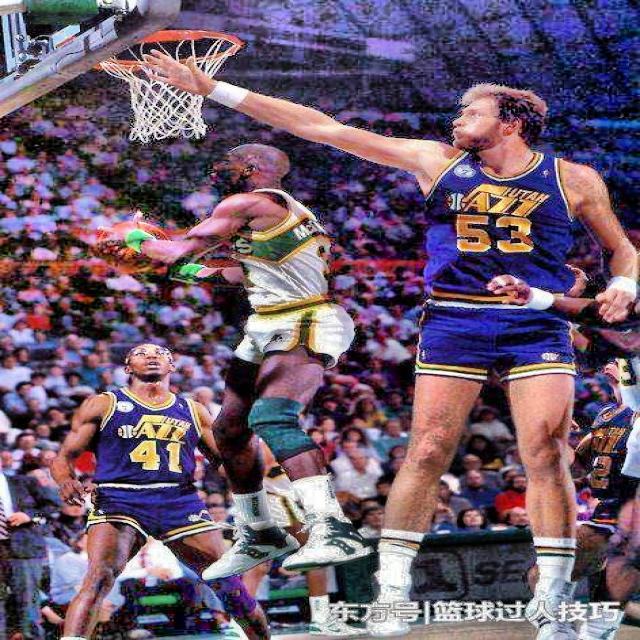rim: (106, 30, 240, 141)
